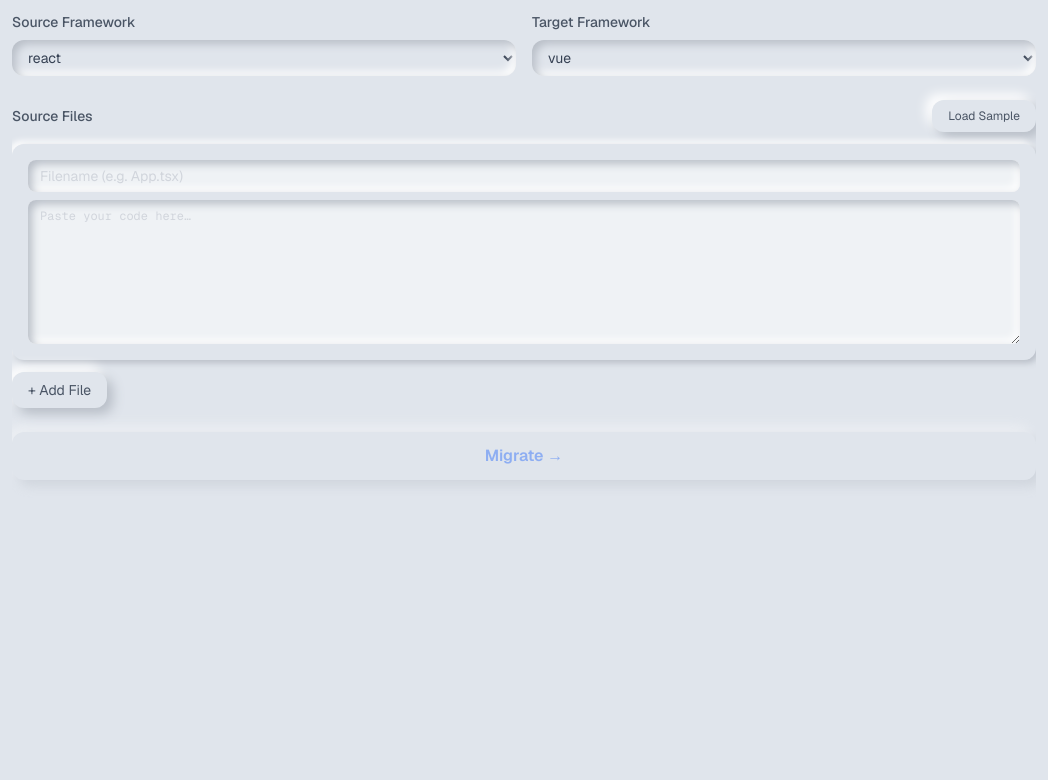
Test: MigrationForm › removes a file row when remove button is clicked
Click the button "+ Add File" at (60, 390), box x1=12 y1=372 x2=107 y2=408
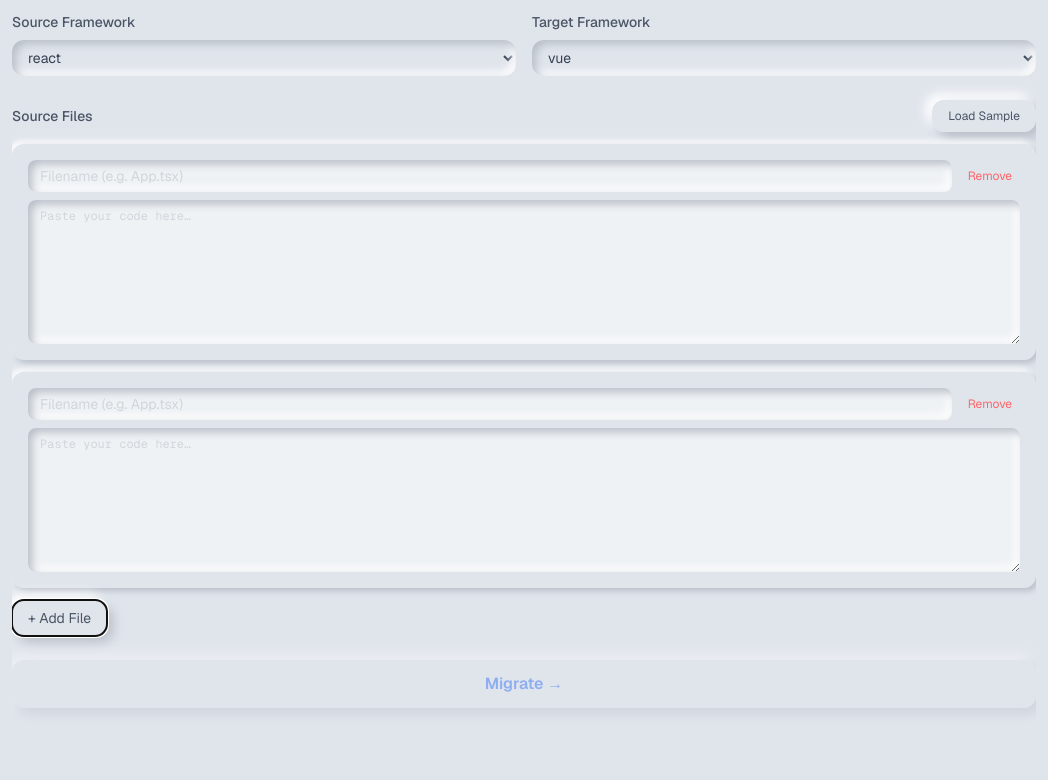
Expected: the number of fields with placeholder "Filename (e.g. App.tsx)" is 2, x1=28 y1=160 x2=952 y2=192; x1=28 y1=388 x2=952 y2=420
Click the 1st button "Remove" at (990, 176), box x1=960 y1=164 x2=1020 y2=188
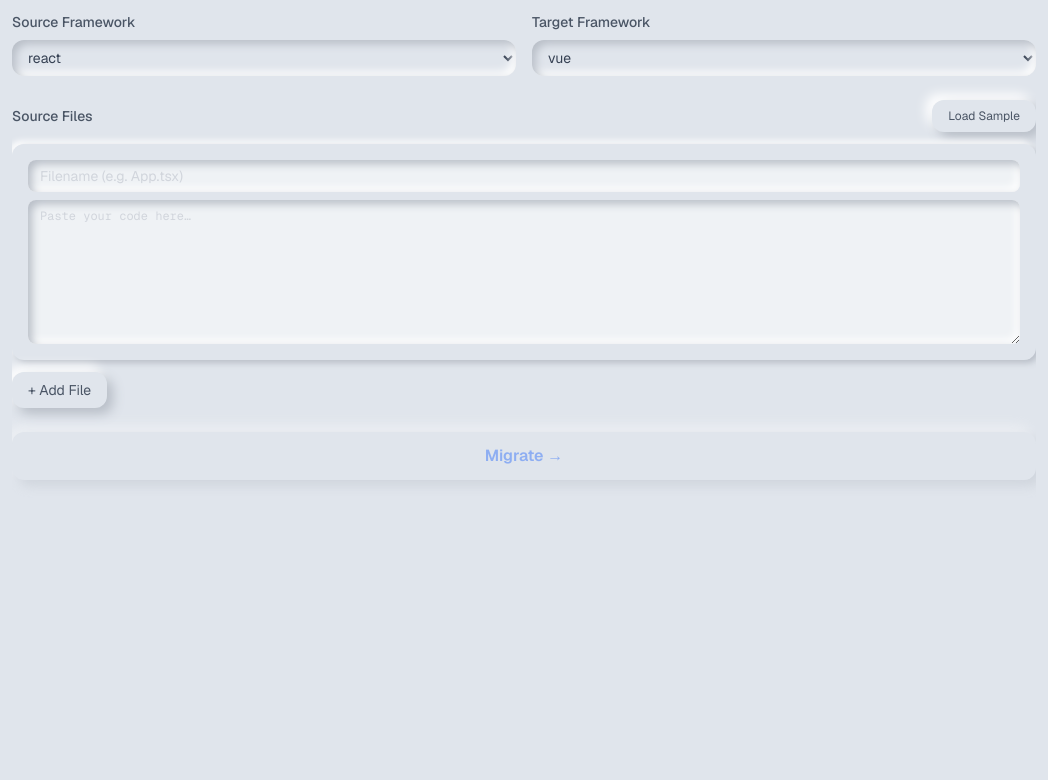
Expected: the number of fields with placeholder "Filename (e.g. App.tsx)" is 1, x1=28 y1=160 x2=1020 y2=192
